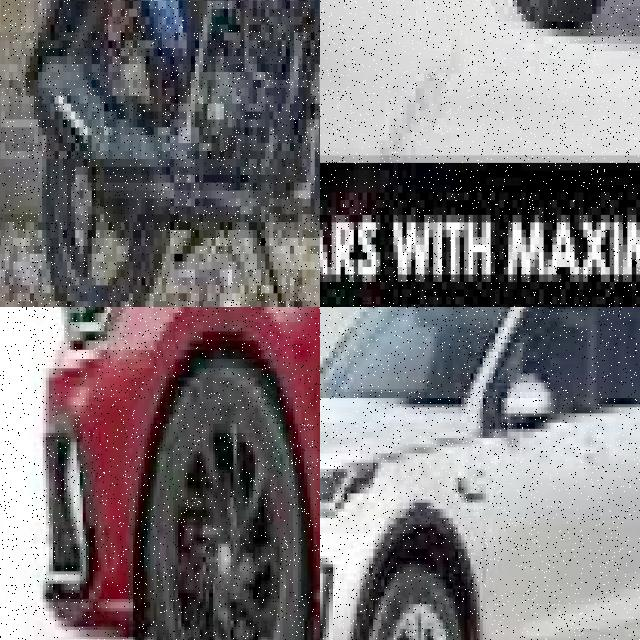bike: (21, 0, 320, 307)
car: (320, 307, 640, 640), (27, 307, 320, 640), (406, 0, 640, 88)
